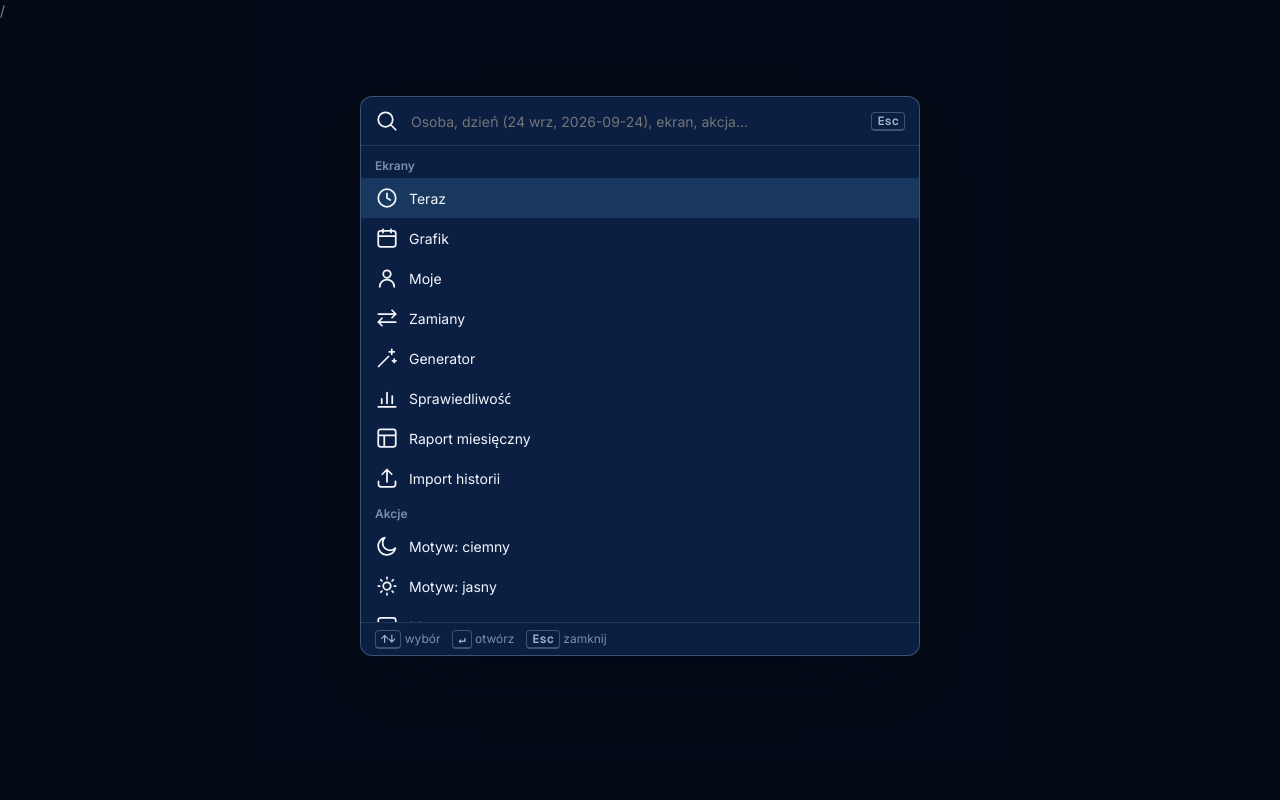
Test: CommandPalette › lists the screens the role can reach and filters them as the user types
Expected: the option "Generator" is shown, [375, 346, 475, 370]
Type "spraw" into the dropdown at (635, 121), box [409, 110, 861, 132]
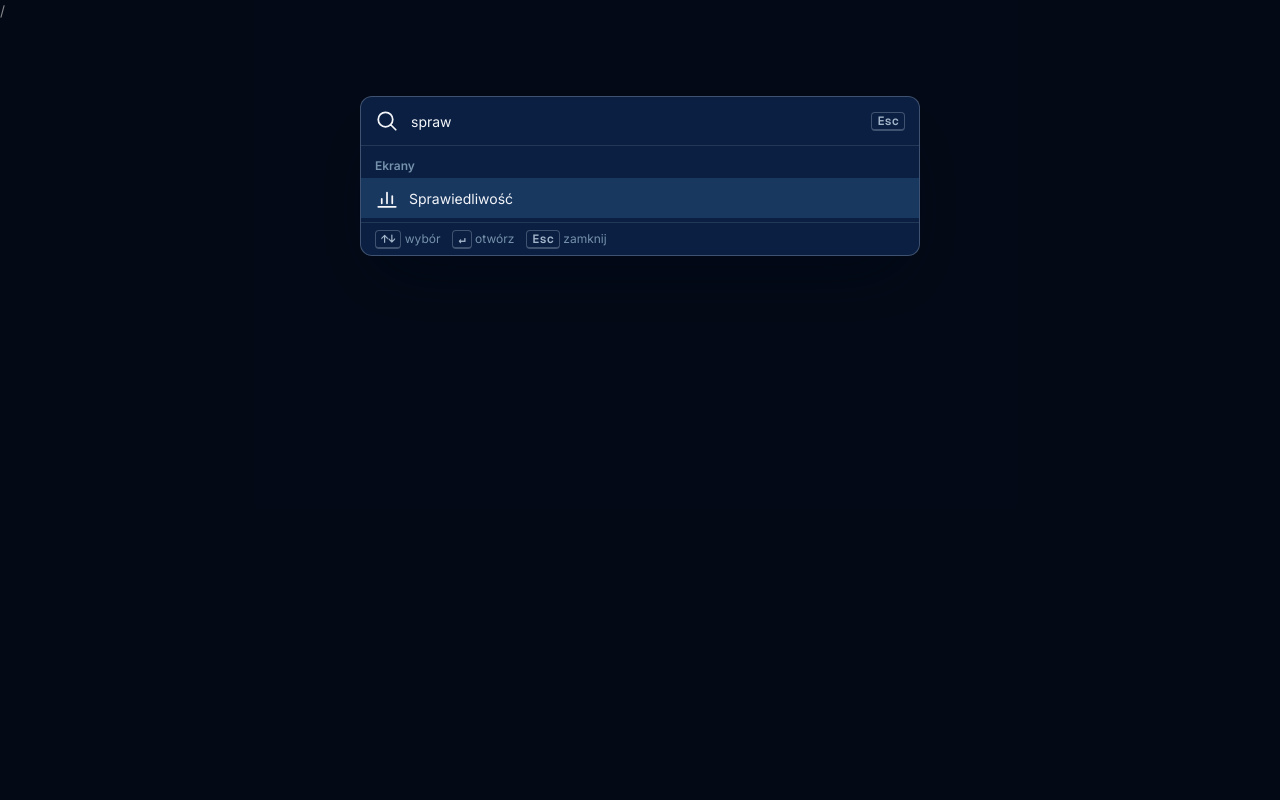
Expected: the option "Sprawiedliwość" is shown, [361, 178, 919, 218]
Expected: the option "Generator" is gone
